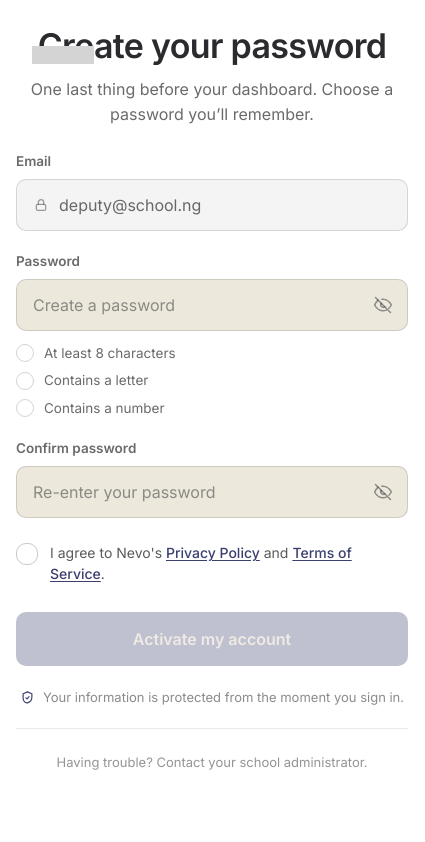
Test: an invited admin › is sent to the admin door when the sign-in hop fails
Type "lessons42" into the password field labelled "Password". click: point(199, 305)
box: [33,280,365,330]
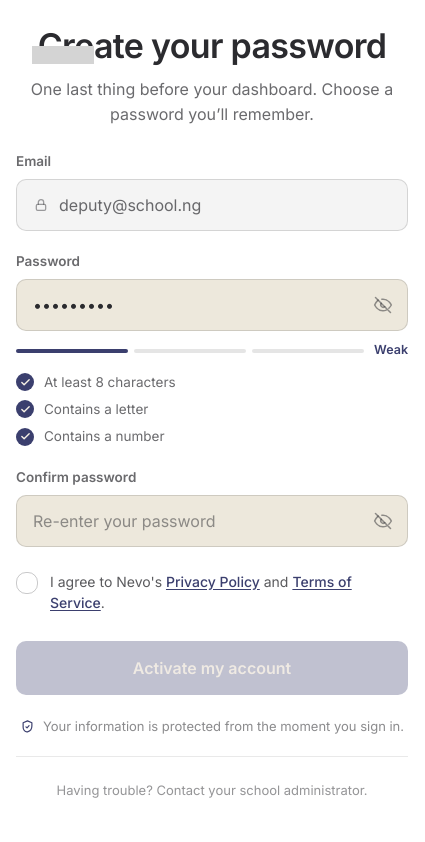
Type "lessons42" into the password field labelled "Confirm password". click: point(199, 521)
box: [33,496,365,546]
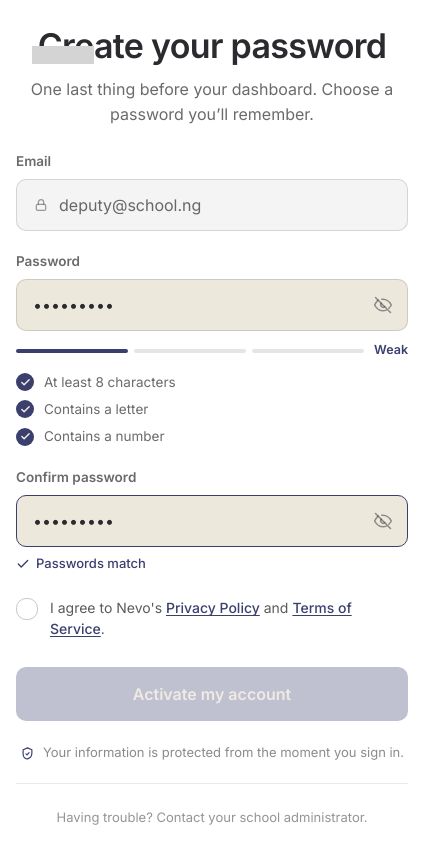
Click the checkbox. click: point(212, 618)
box: [16,597,408,639]
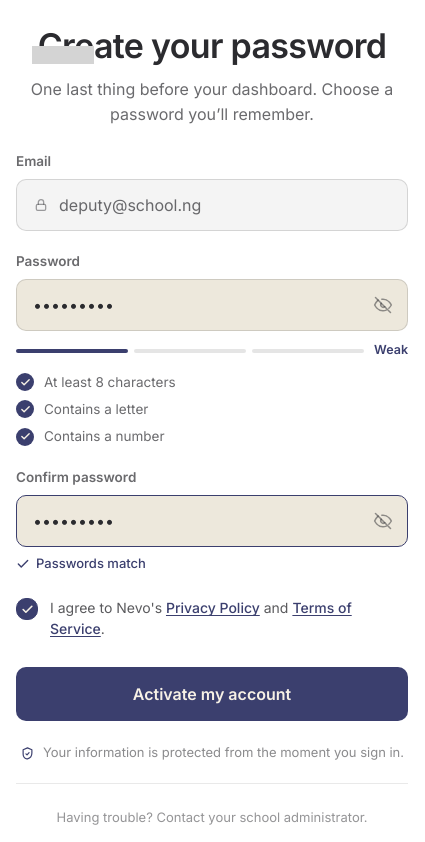
Click the button "Activate my account". click: point(212, 694)
box: [16,667,408,721]
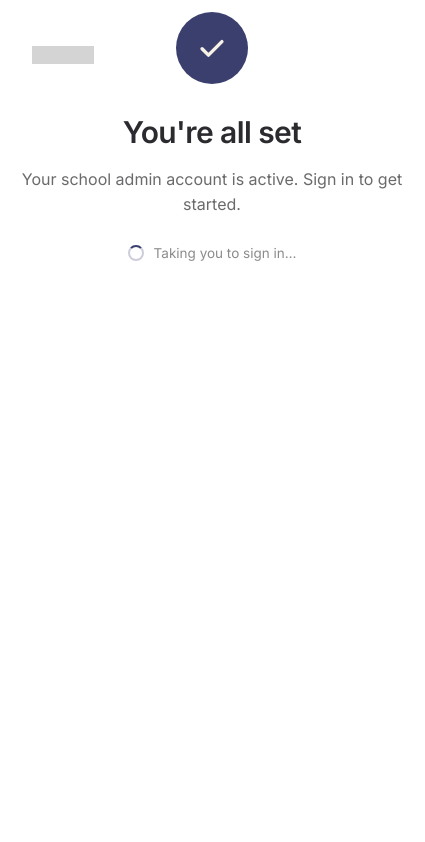
Expected: the text "Your school admin account is active. Sign in to get started." is shown, [16,167,408,217]
